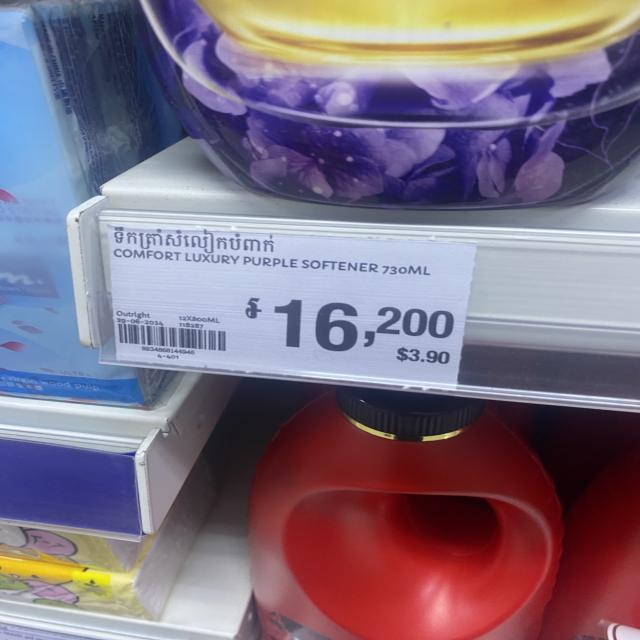144: (394, 343, 453, 366)
555: (176, 321, 206, 330)
573: (177, 313, 223, 324)
599: (267, 294, 379, 353)
643: (370, 300, 457, 342)
695: (114, 316, 165, 326)
744: (153, 352, 183, 361)
830: (380, 262, 433, 280)
873: (140, 343, 196, 357)
Yolov11_80vkh: (112, 223, 284, 260), (244, 291, 264, 321)
